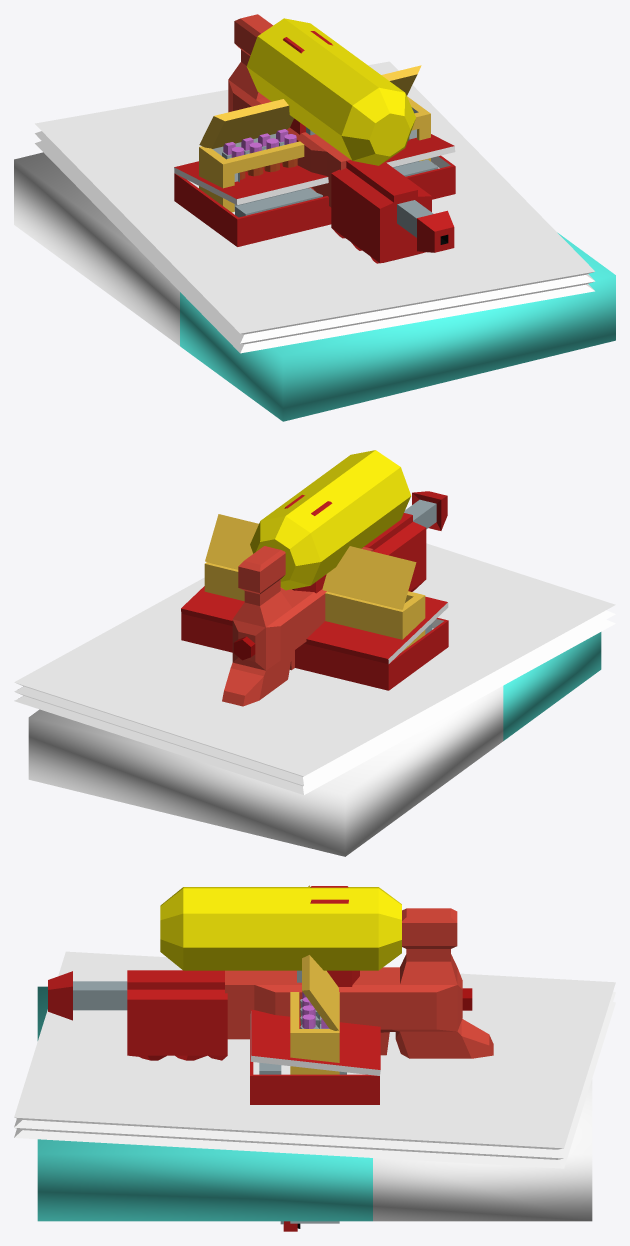
File: Weapons.fbx
The picture shows the model from 3 angles, top to bottom: view 1: azimuth 30°, elevation 25°; view 2: azimuth 150°, elevation 25°; view 3: azimuth 270°, elevation 25°; orthographic projection. The views are drawn at different scales.
Parts seen in each view (by area): view 1: Paper, SquirtGun, StapleBox, PencilBox; view 2: Paper, SquirtGun, StapleBox, PencilBox; view 3: Paper, SquirtGun, StapleBox, PencilBox, Stapler.
Boxes of the visible parts, x1,y1,x2,y2 form: Paper: [14, 61, 615, 421]; SquirtGun: [228, 14, 454, 263]; StapleBox: [174, 134, 455, 246]; PencilBox: [199, 65, 430, 212]; Paper: [14, 543, 615, 856]; SquirtGun: [222, 450, 447, 706]; StapleBox: [181, 586, 448, 690]; PencilBox: [204, 514, 425, 651]; Paper: [14, 951, 615, 1221]; SquirtGun: [48, 887, 493, 1060]; StapleBox: [250, 1009, 380, 1104]; PencilBox: [290, 885, 339, 1223]; Stapler: [297, 886, 359, 986].
Size of the model in its own units: 37.59 by 29.86 by 48.6.
1 material, 1 textured.
